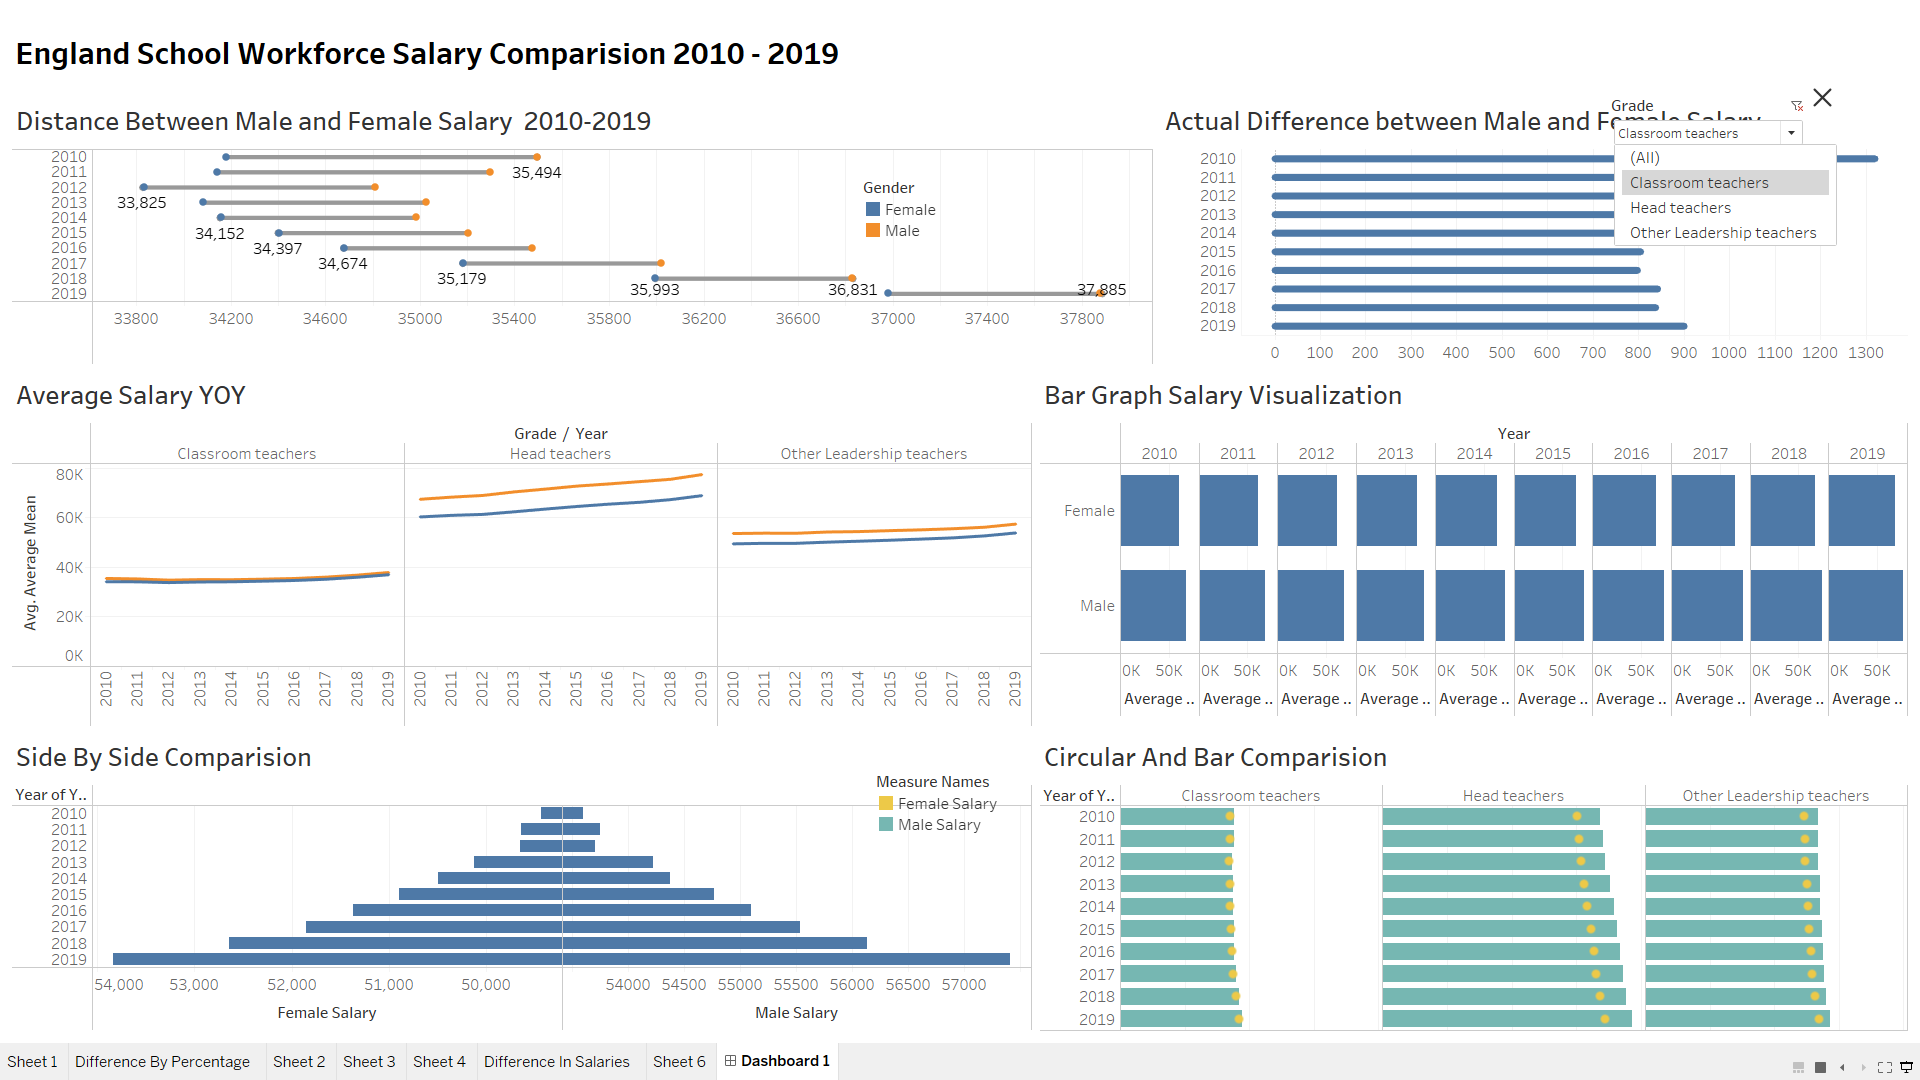

The dashboard page shown, as its layout file describes it:
{"tool":"tableau","page":{"name":"Dashboard 1","canvas":[1000,1000],"units":"permille","ordinal":0},"visuals":[{"type":"text","box":[4.8,8.8,990.3,95.5]},{"type":"dashboard-object","box":[941.5,80.1,14.5,26.3]},{"type":"filter","title":"Difference In Salaries","param":"[federated.0b0azmt1gkis8a16qjfa11jrmof5].[none:grade:nk]","box":[838.9,91.1,101.4,76.8]},{"type":"worksheet","title":"Sheet 4","mark":"Automatic","rows":["Calculation_684265717785427971"],"cols":["average_mean","average_mean"],"box":[4.8,104.3,534.7,250]},{"type":"worksheet","title":"Difference In Salaries","mark":"Line","rows":["Calculation_684265717785427971"],"box":[539.5,104.3,455.6,250]},{"type":"legend","title":"Sheet 4","param":"[federated.0b0azmt1gkis8a16qjfa11jrmof5].[none:gender:nk]","box":[407.4,162.5,84.5,70.2]},{"type":"worksheet","title":"Sheet 1","mark":"Automatic","rows":["average_mean"],"cols":["grade","Calculation_684265717785427971"],"box":[4.8,354.3,534.6,345.8]},{"type":"worksheet","title":"Sheet 6","mark":"Bar","rows":["gender"],"cols":["Calculation_684265717785427971","average_mean"],"box":[539.5,354.3,455.7,345.8]},{"type":"worksheet","title":"Sheet 3","mark":"Bar","rows":["Calculation_684265717785427971"],"cols":["Calculation_684265717814575110","Calculation_684265717811085316"],"box":[4.8,700.2,534.6,291.1]},{"type":"worksheet","title":"Sheet 2","mark":"Bar","rows":["Calculation_684265717785427971"],"cols":["grade","Calculation_684265717811085316","Calculation_684265717811281925"],"box":[539.5,700.2,455.7,291.1]},{"type":"legend","title":"Sheet 2","param":"[federated.0b0azmt1gkis8a16qjfa11jrmof5].[:Measure Names]","box":[456.2,738.8,88.7,77.9]}]}

Visuals, with their boxes on the dashboard's canvas, which has no fixed pixel size, in thousandths of its width and height (x1, y1, x2, y2). These are canvas units, not pixel positions in the 1920x1080 screenshot, which may show the page scaled, cropped or inside an application window:
text: (left=5, top=9, right=995, bottom=104)
dashboard-object: (left=942, top=80, right=956, bottom=106)
"Difference In Salaries" filter: (left=839, top=91, right=940, bottom=168)
"Sheet 4" worksheet: (left=5, top=104, right=540, bottom=354)
"Difference In Salaries" worksheet (Line marks): (left=540, top=104, right=995, bottom=354)
"Sheet 4" legend: (left=407, top=162, right=492, bottom=233)
"Sheet 1" worksheet: (left=5, top=354, right=539, bottom=700)
"Sheet 6" worksheet (Bar marks): (left=540, top=354, right=995, bottom=700)
"Sheet 3" worksheet (Bar marks): (left=5, top=700, right=539, bottom=991)
"Sheet 2" worksheet (Bar marks): (left=540, top=700, right=995, bottom=991)
"Sheet 2" legend: (left=456, top=739, right=545, bottom=817)
